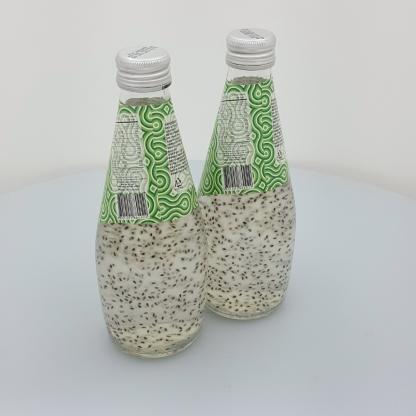------------------------: (95, 45, 208, 358), (197, 28, 296, 320)
